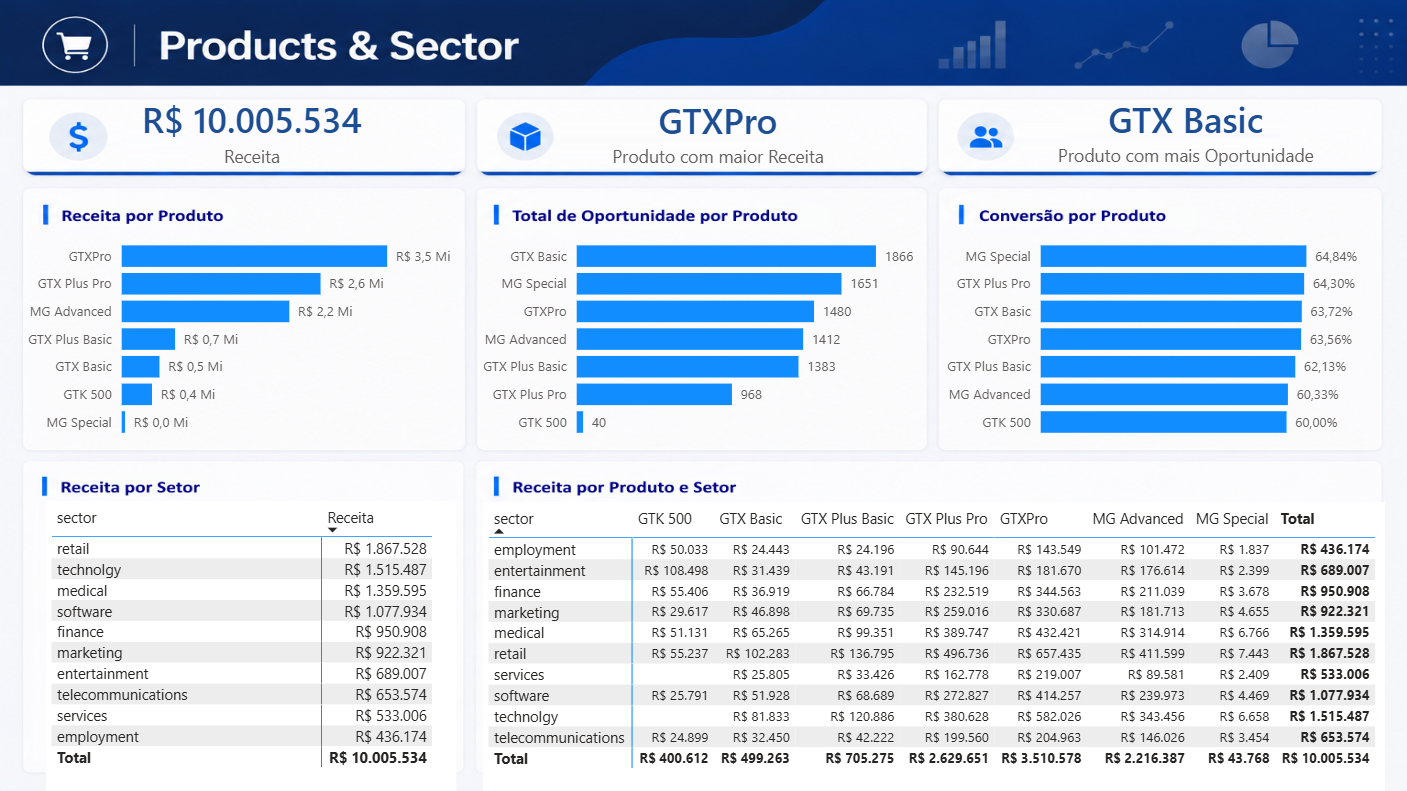

The page's visual inventory and layout, read from the dashboard file:
{"tool":"powerbi","page":{"name":"Products & Sector","canvas":[1280,720],"ordinal":2},"visuals":[{"type":"cardVisual","fields":{"Data":["sales_pipeline.Receita"]},"box":[89,33,280,174],"z":0},{"type":"cardVisual","fields":{"Data":["sales_pipeline.Produto Mais Vendido"]},"box":[513,27,280,185],"z":1000},{"type":"cardVisual","fields":{"Data":["sales_pipeline.Produto Mais Vendido"]},"box":[930.1,16,296.2,206.6],"z":2000},{"type":"barChart","fields":{"Category":["sales_pipeline.product"],"Y":["sales_pipeline.Receita"]},"box":[14,201,401,209],"z":3000},{"type":"barChart","fields":{"Category":["sales_pipeline.product"],"Y":["sales_pipeline.Total Oportunidade"]},"box":[427,201,408,209],"z":4000},{"type":"barChart","fields":{"Category":["sales_pipeline.product"],"Y":["sales_pipeline.Conversão"]},"box":[849,201,400,209],"z":5000},{"type":"pivotTable","fields":{"Rows":["accounts.sector"],"Values":["sales_pipeline.Receita"]},"box":[42,456,373,264],"z":6000},{"type":"pivotTable","fields":{"Values":["sales_pipeline.Receita"],"Rows":["accounts.sector"],"Columns":["sales_pipeline.product"]},"box":[439,457,820,263],"z":7000}]}

Visuals, with their boxes in screenshot pixels (x1, y1, x2, y2), scaled from the page's 1280x720 canvas onto the 1407x791 screenshot:
cardVisual - sales_pipeline.Receita: x1=98 y1=36 x2=406 y2=227
cardVisual - sales_pipeline.Produto Mais Vendido: x1=564 y1=30 x2=872 y2=233
cardVisual - sales_pipeline.Produto Mais Vendido: x1=1022 y1=18 x2=1348 y2=245
barChart - sales_pipeline.product x sales_pipeline.Receita: x1=15 y1=221 x2=456 y2=450
barChart - sales_pipeline.product x sales_pipeline.Total Oportunidade: x1=469 y1=221 x2=918 y2=450
barChart - sales_pipeline.product x sales_pipeline.Conversão: x1=933 y1=221 x2=1373 y2=450
pivotTable - accounts.sector x sales_pipeline.Receita: x1=46 y1=501 x2=456 y2=790
pivotTable - sales_pipeline.Receita x accounts.sector: x1=483 y1=502 x2=1384 y2=790
